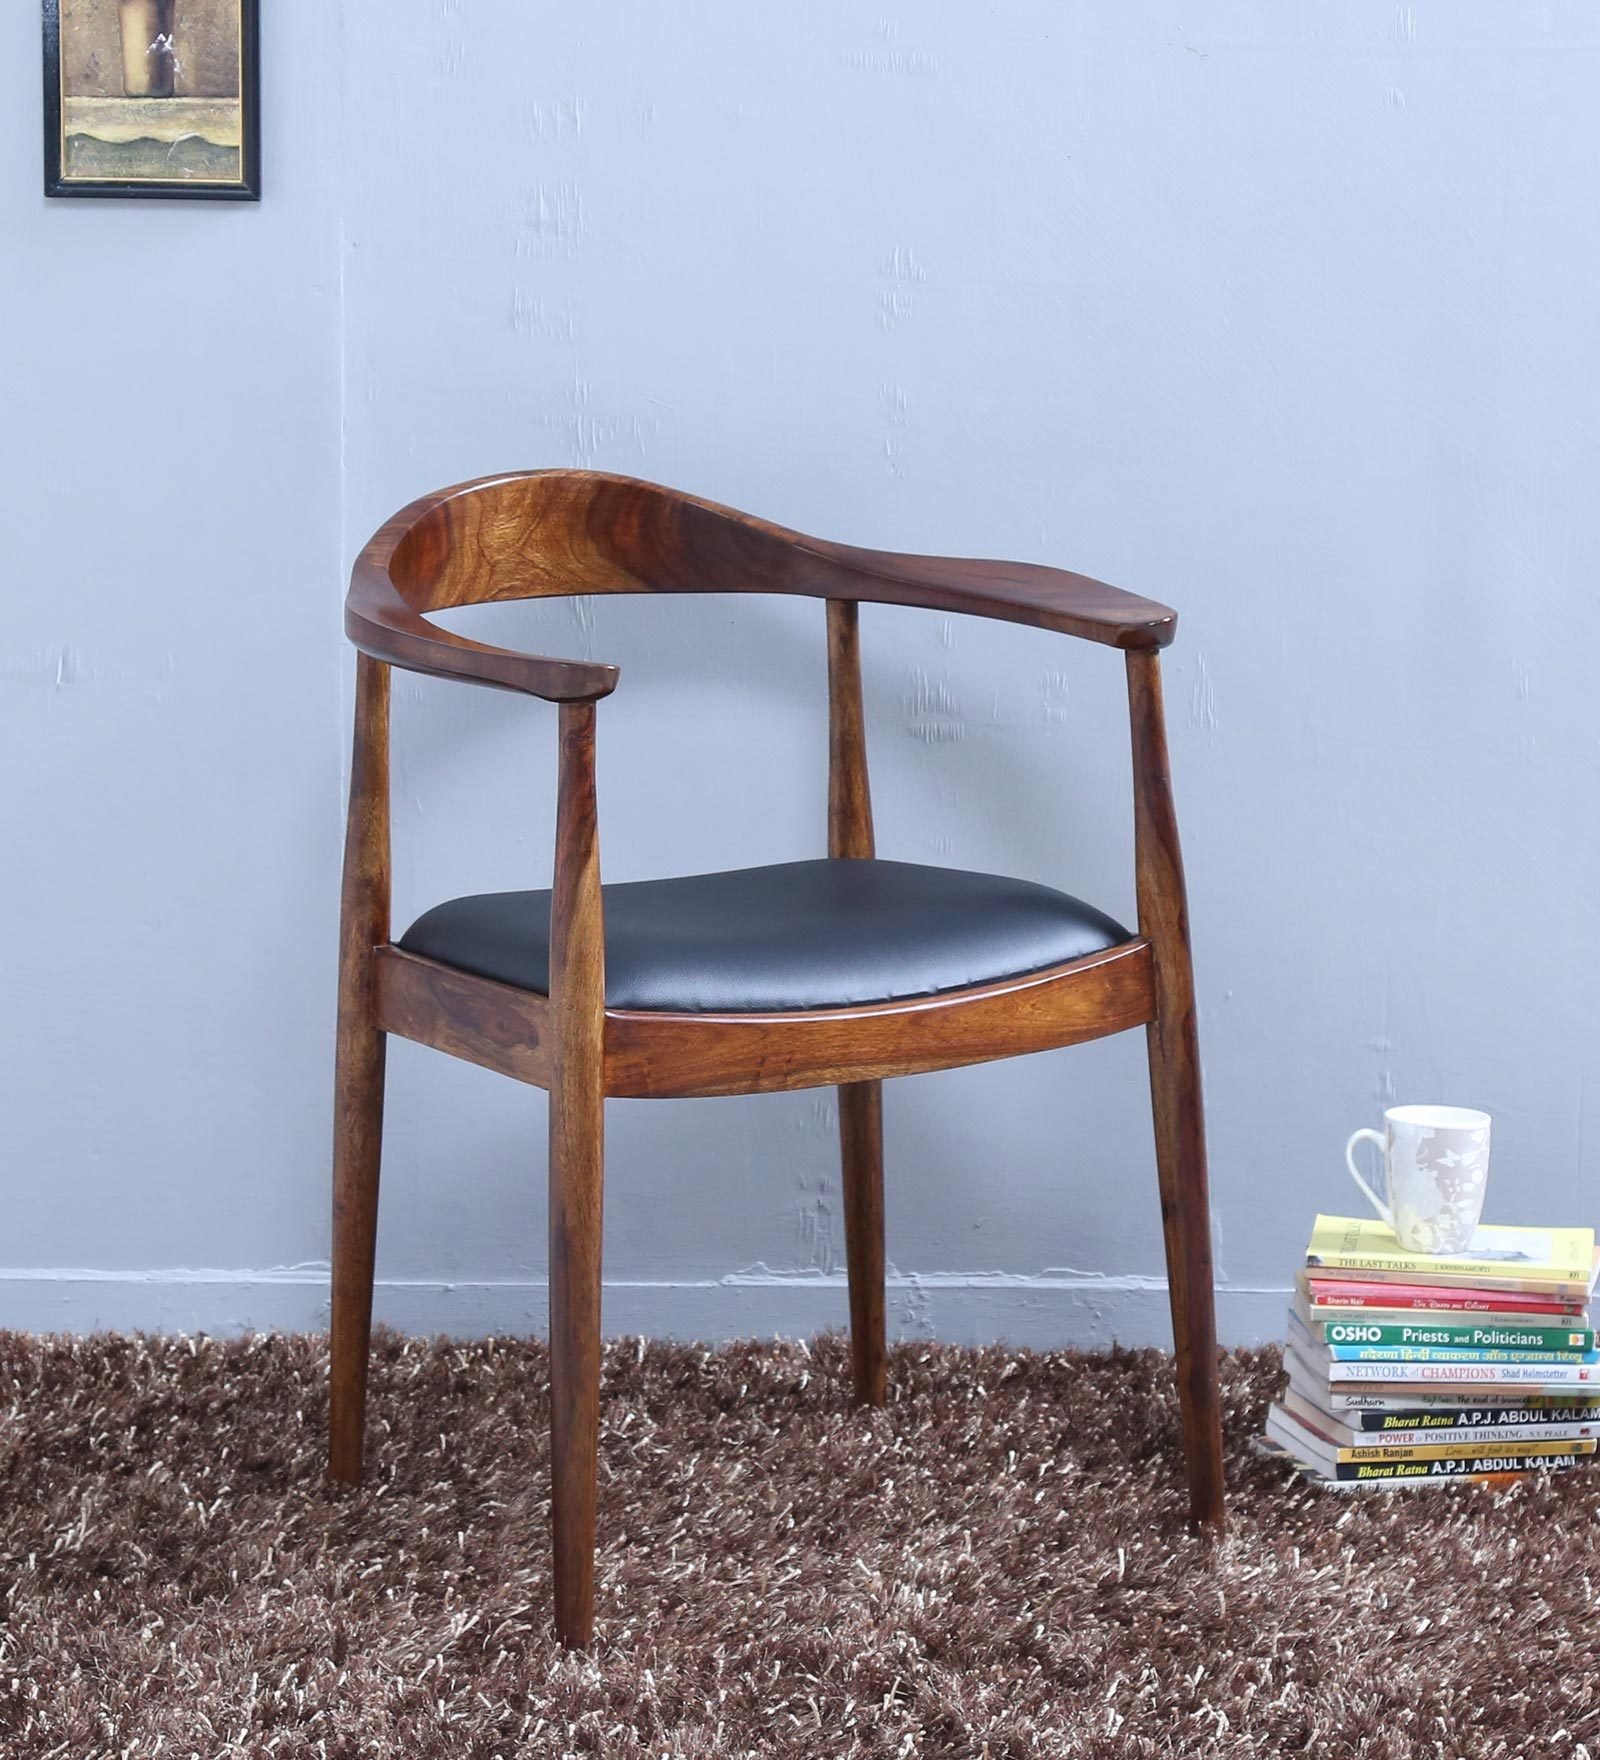Esvelt Arm Chair in Provincial Teak Finish by Woodsworth: (317, 461, 1251, 1653)
